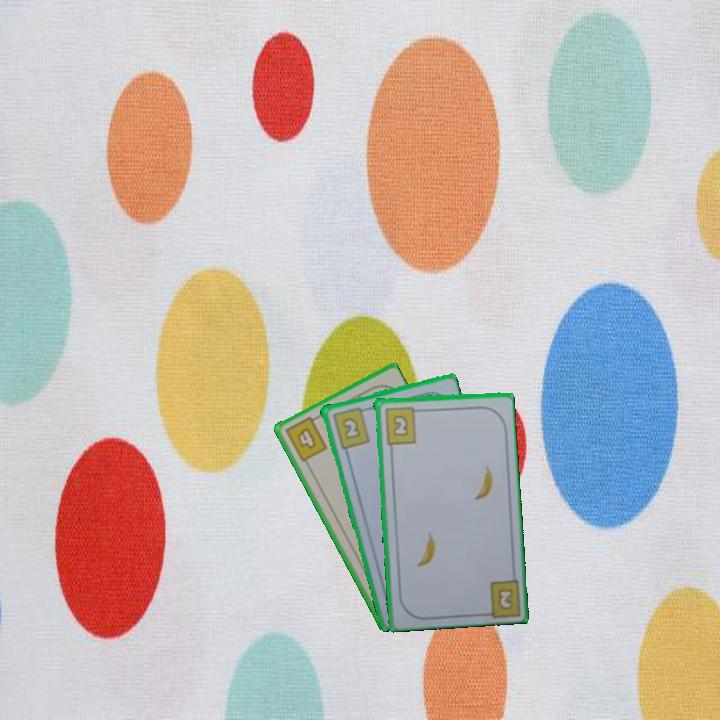2b: (329, 403, 372, 451), (381, 403, 423, 447), (494, 585, 516, 613)
4b: (281, 412, 330, 465)
